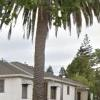Palm tree: (11, 0, 69, 91)
